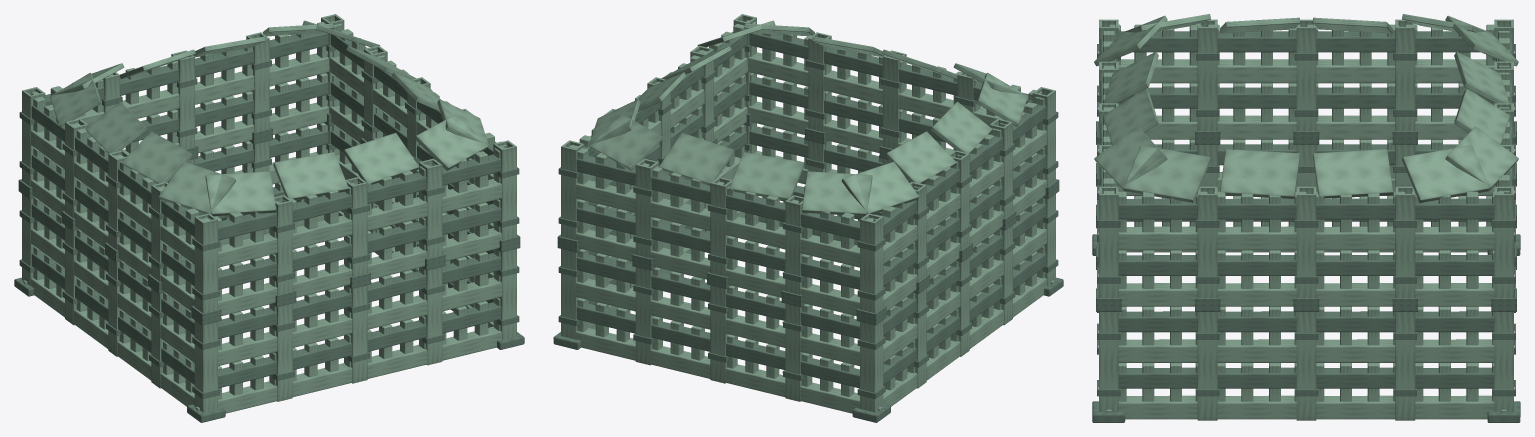
3 views of the same model, side by side, from view 1: azimuth 30°, elevation 25°; view 2: azimuth 150°, elevation 25°; view 3: azimuth 270°, elevation 25° (orthographic). The views are drawn at different scales.
Parts seen in each view (by area): view 1: Crown alloy petal 0-1, Crown alloy petal 0-0, Crown alloy petal 0-2, Crown alloy petal 3-3, Crown alloy petal 3-2, Crown alloy petal 0-3, Tier 1 side 0 post 0, Tier 0 side 0 post 0, Crown alloy petal 3-1, Tier 1 side 0 post 3, Tier 1 side 0 post 2, Crown alloy petal 3-0 (+106 smaller); view 2: Crown alloy petal 2-2, Crown alloy petal 2-3, Crown alloy petal 2-1, Crown alloy petal 3-0, Crown alloy petal 3-1, Crown alloy petal 2-0, Tier 1 side 3 post 0, Tier 0 side 3 post 0, Crown alloy petal 3-2, Tier 1 side 2 post 1, Crown alloy petal 3-3, Tier 1 side 2 post 2 (+107 smaller); view 3: Crown alloy petal 1-2, Crown alloy petal 1-1, Crown alloy petal 1-3, Crown alloy petal 1-0, Tier 1 side 1 post 2, Crown alloy petal 0-3, Tier 1 side 1 post 1, Tier 1 side 1 post 3, Crown alloy petal 2-0, Tier 1 side 3 post 1, Tier 1 side 3 post 3, Tier 1 side 3 post 2 (+72 smaller).
Boxes of the visible parts, <box> form: Crown alloy petal 0-1: <box>273,152,348,200</box>; Crown alloy petal 0-0: <box>205,171,275,216</box>; Crown alloy petal 0-2: <box>343,133,419,184</box>; Crown alloy petal 3-3: <box>159,161,236,214</box>; Crown alloy petal 3-2: <box>121,131,192,183</box>; Crown alloy petal 0-3: <box>414,114,488,170</box>; Tier 1 side 0 post 0: <box>194,213,217,312</box>; Tier 0 side 0 post 0: <box>194,320,217,412</box>; Crown alloy petal 3-1: <box>85,101,147,153</box>; Tier 1 side 0 post 3: <box>419,158,442,258</box>; Tier 1 side 0 post 2: <box>344,177,367,276</box>; Crown alloy petal 3-0: <box>50,72,101,126</box>; Crown alloy petal 2-2: <box>729,152,804,200</box>; Crown alloy petal 2-3: <box>802,171,872,216</box>; Crown alloy petal 2-1: <box>659,133,734,185</box>; Crown alloy petal 3-0: <box>841,161,919,214</box>; Crown alloy petal 3-1: <box>885,131,956,183</box>; Crown alloy petal 2-0: <box>589,114,663,170</box>; Tier 1 side 3 post 0: <box>860,213,883,312</box>; Tier 0 side 3 post 0: <box>860,320,883,412</box>; Crown alloy petal 3-2: <box>930,101,992,153</box>; Tier 1 side 2 post 1: <box>635,158,658,258</box>; Crown alloy petal 3-3: <box>976,72,1027,126</box>; Tier 1 side 2 post 2: <box>710,177,732,276</box>; Crown alloy petal 1-2: <box>1312,149,1392,198</box>; Crown alloy petal 1-1: <box>1220,149,1300,198</box>; Crown alloy petal 1-3: <box>1402,145,1489,202</box>; Crown alloy petal 1-0: <box>1123,145,1210,202</box>; Tier 1 side 1 post 2: <box>1296,186,1316,297</box>; Crown alloy petal 0-3: <box>1094,126,1167,190</box>; Tier 1 side 1 post 1: <box>1197,186,1217,297</box>; Tier 1 side 1 post 3: <box>1395,186,1415,297</box>; Crown alloy petal 2-0: <box>1445,126,1518,190</box>; Tier 1 side 3 post 1: <box>1395,19,1415,130</box>; Tier 1 side 3 post 3: <box>1197,19,1217,130</box>; Tier 1 side 3 post 2: <box>1296,19,1316,130</box>.
Bounding box in the file's own units: 1.95 × 1.24 × 1.95.
2 materials, 2 textured.
